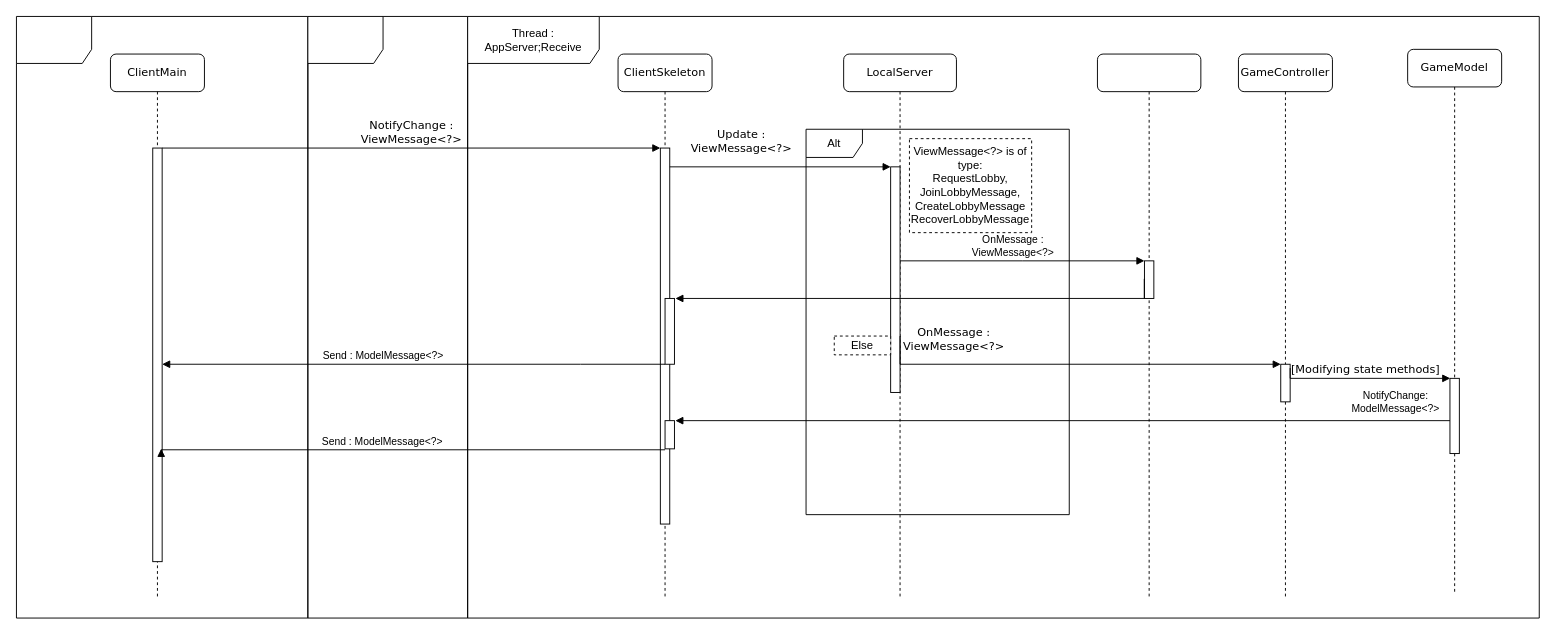
The diagram is 1556 pixels wide and 635 high, and some of its shapes have lost their labels. The shapes that lost their labels are listed below. From the top down, each one's centre as x and y in pixels, then its label:
point (162, 317): Thread : ClientMain
point (387, 317): NETWORK
point (1149, 326): LobbyController
